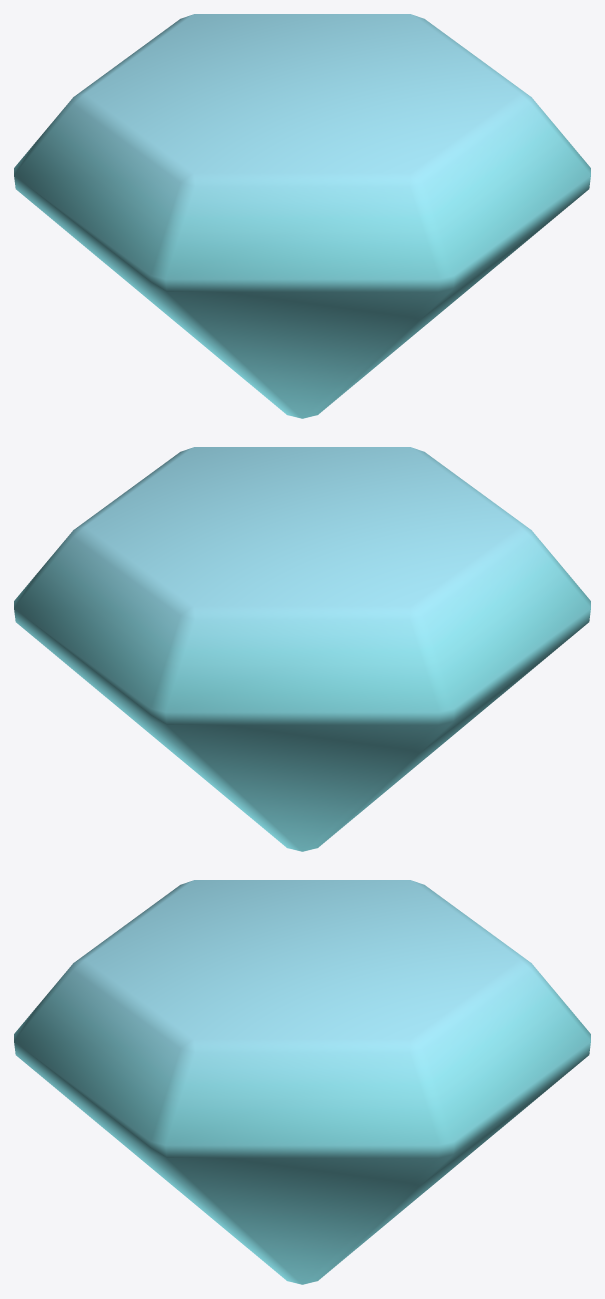
Rendered from Diamond.fbx.
3 views of the same model, one above another, from view 1: azimuth 30°, elevation 25°; view 2: azimuth 150°, elevation 25°; view 3: azimuth 270°, elevation 25° (orthographic).
Visible parts, largest first — view 1: Diamond; view 2: Diamond; view 3: Diamond.
Boxes of the visible parts, x1,y1,x2,y2 form: Diamond: (14, 14, 590, 418); Diamond: (14, 447, 590, 851); Diamond: (14, 880, 590, 1284).
Size of the model in its own units: 19.46 by 13.42 by 22.09.
